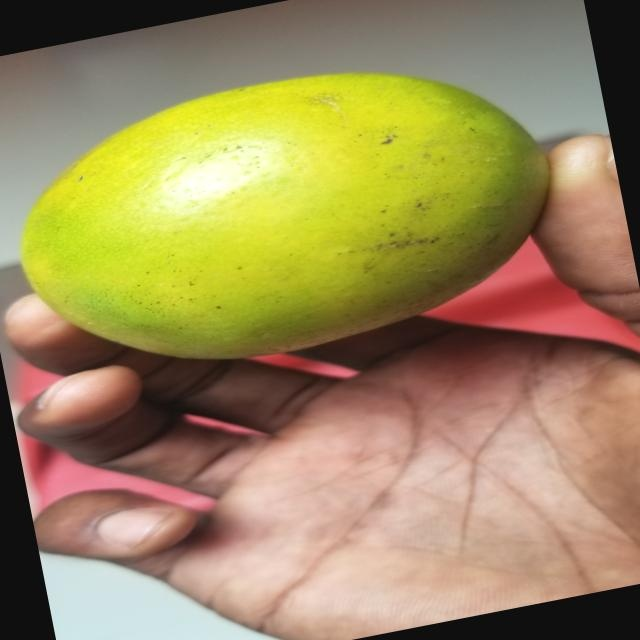agrume: (2, 26, 574, 396)
